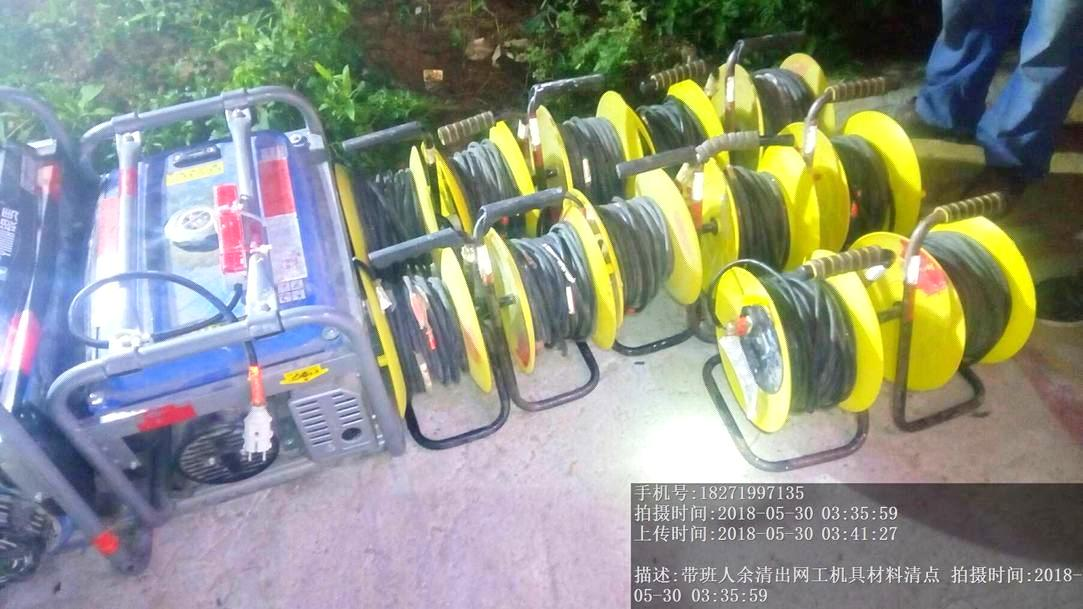DJ: (58, 105, 379, 504)
DX: (878, 230, 1049, 437), (703, 257, 869, 470), (357, 249, 513, 451), (485, 196, 607, 405)
